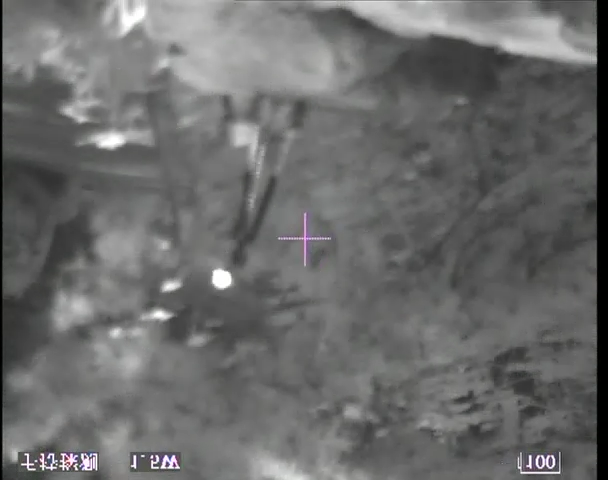my: (210, 267, 232, 291)
